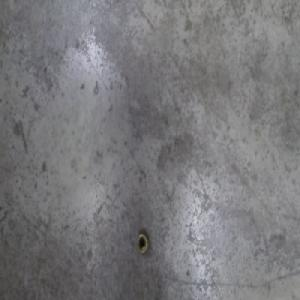Nut: (135, 229, 149, 256)
